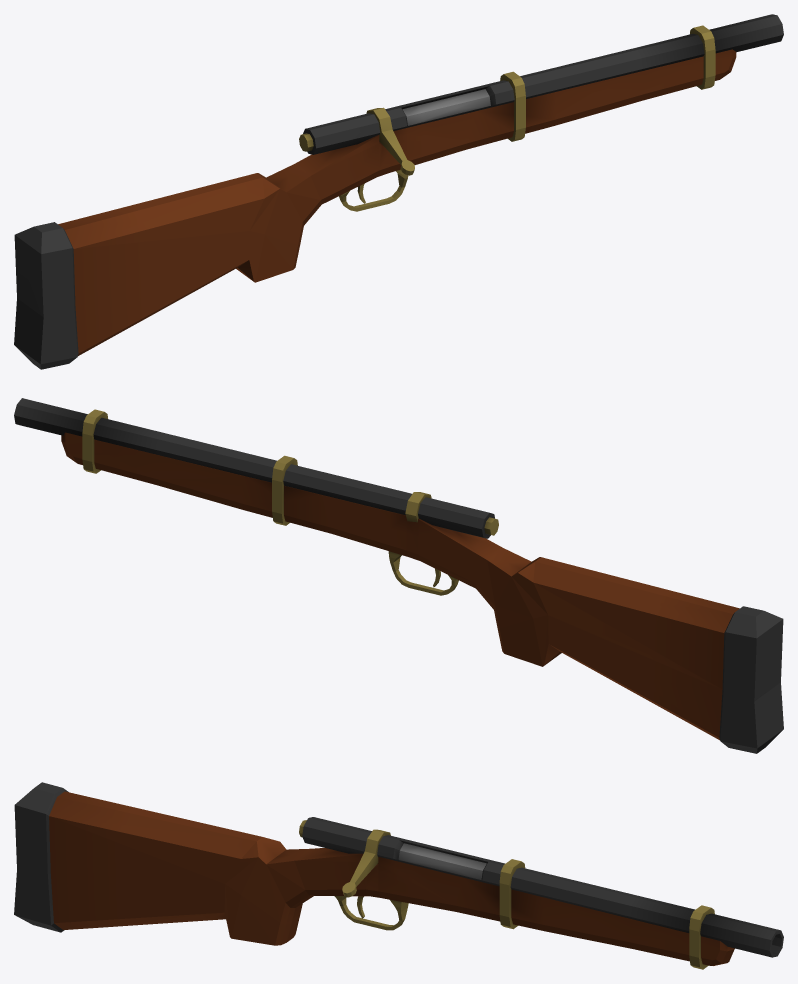
The model's file is v-boltaction-rifles-a-short.glb.
3 views of the same model, one above another, from view 1: azimuth 30°, elevation 25°; view 2: azimuth 150°, elevation 25°; view 3: azimuth 330°, elevation 25° (orthographic).
Visible parts, largest first — view 1: stock (×2), front (×4), receiver (×3), grip; view 2: stock (×2), front (×3), receiver (×3), grip; view 3: stock (×2), front (×4), receiver (×3), grip.
Boxes of the visible parts, x1=… form: stock (×2): x1=14, y1=186, x2=219, y2=369; front (×4): x1=415, y1=14, x2=783, y2=162; receiver (×3): x1=204, y1=102, x2=425, y2=281; grip: x1=227, y1=211, x2=272, y2=282; stock (×2): x1=578, y1=571, x2=783, y2=753; front (×3): x1=14, y1=398, x2=379, y2=546; receiver (×3): x1=372, y1=486, x2=593, y2=665; grip: x1=525, y1=595, x2=570, y2=666; stock (×2): x1=14, y1=782, x2=209, y2=932; front (×4): x1=412, y1=843, x2=783, y2=969; receiver (×3): x1=195, y1=817, x2=422, y2=945; grip: x1=210, y1=867, x2=250, y2=941.
Size of the model in its own units: 0.774 by 0.1734 by 0.0835.
